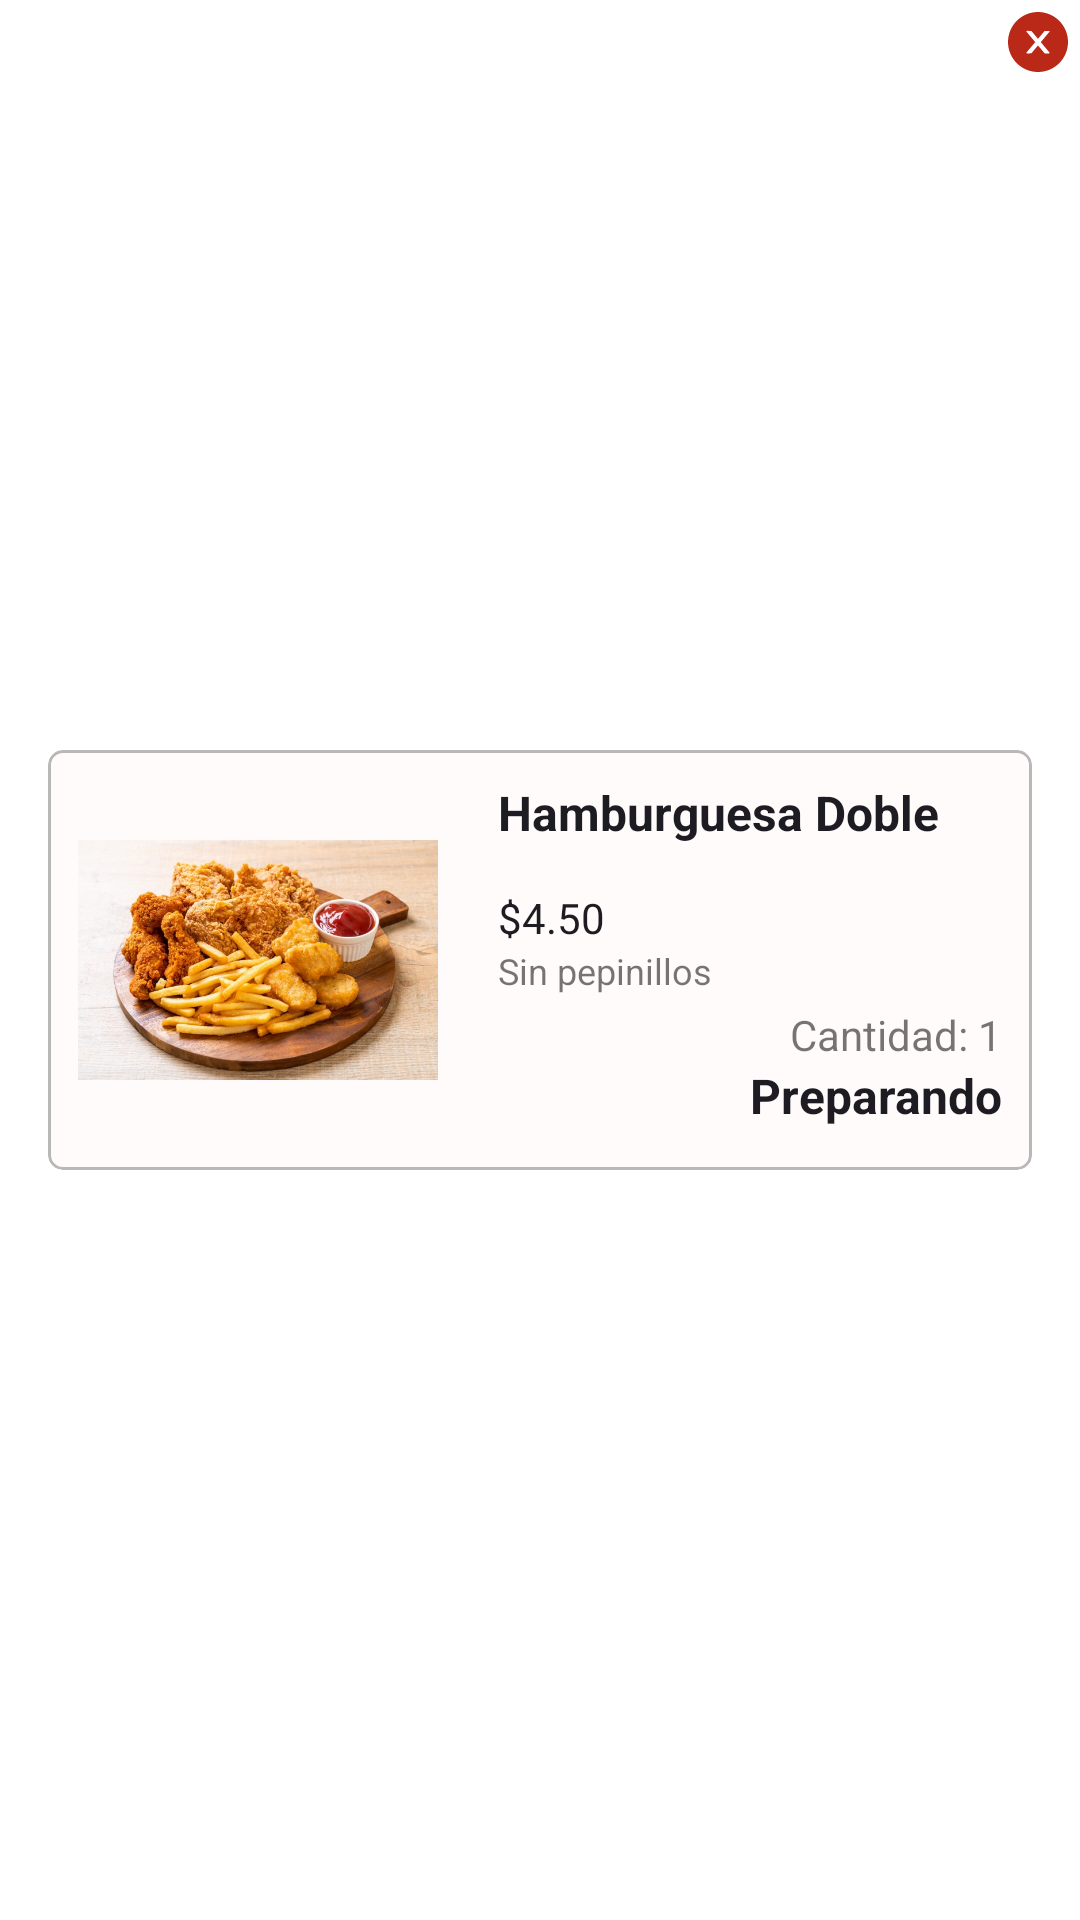

Icons on this 1080px×1920px Android screen, each with the point to tap as (x,y):
papipollo: (258,960)
plate card delete: (1038,42)
